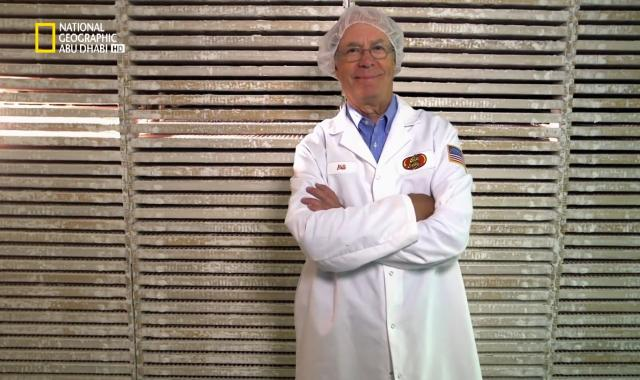hairnet: (321, 5, 408, 76)
